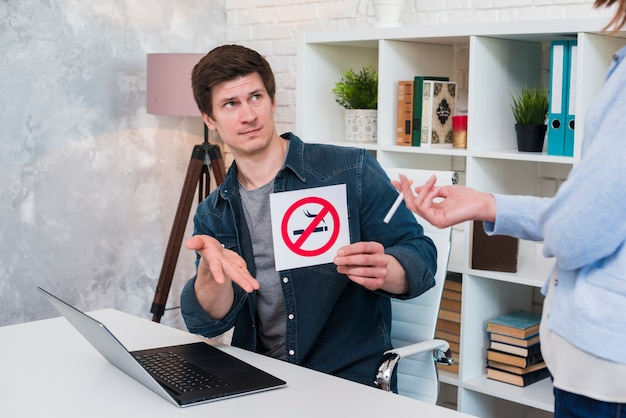cigarette: (384, 177, 414, 225)
